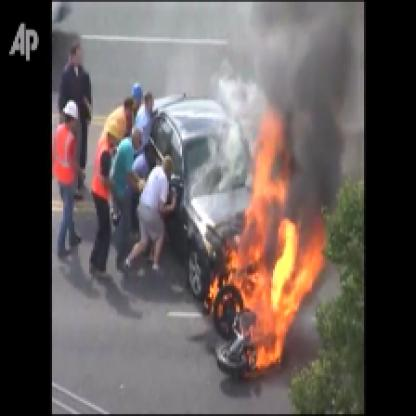Fire: (206, 104, 327, 379)
Smoke: (280, 2, 360, 223)
